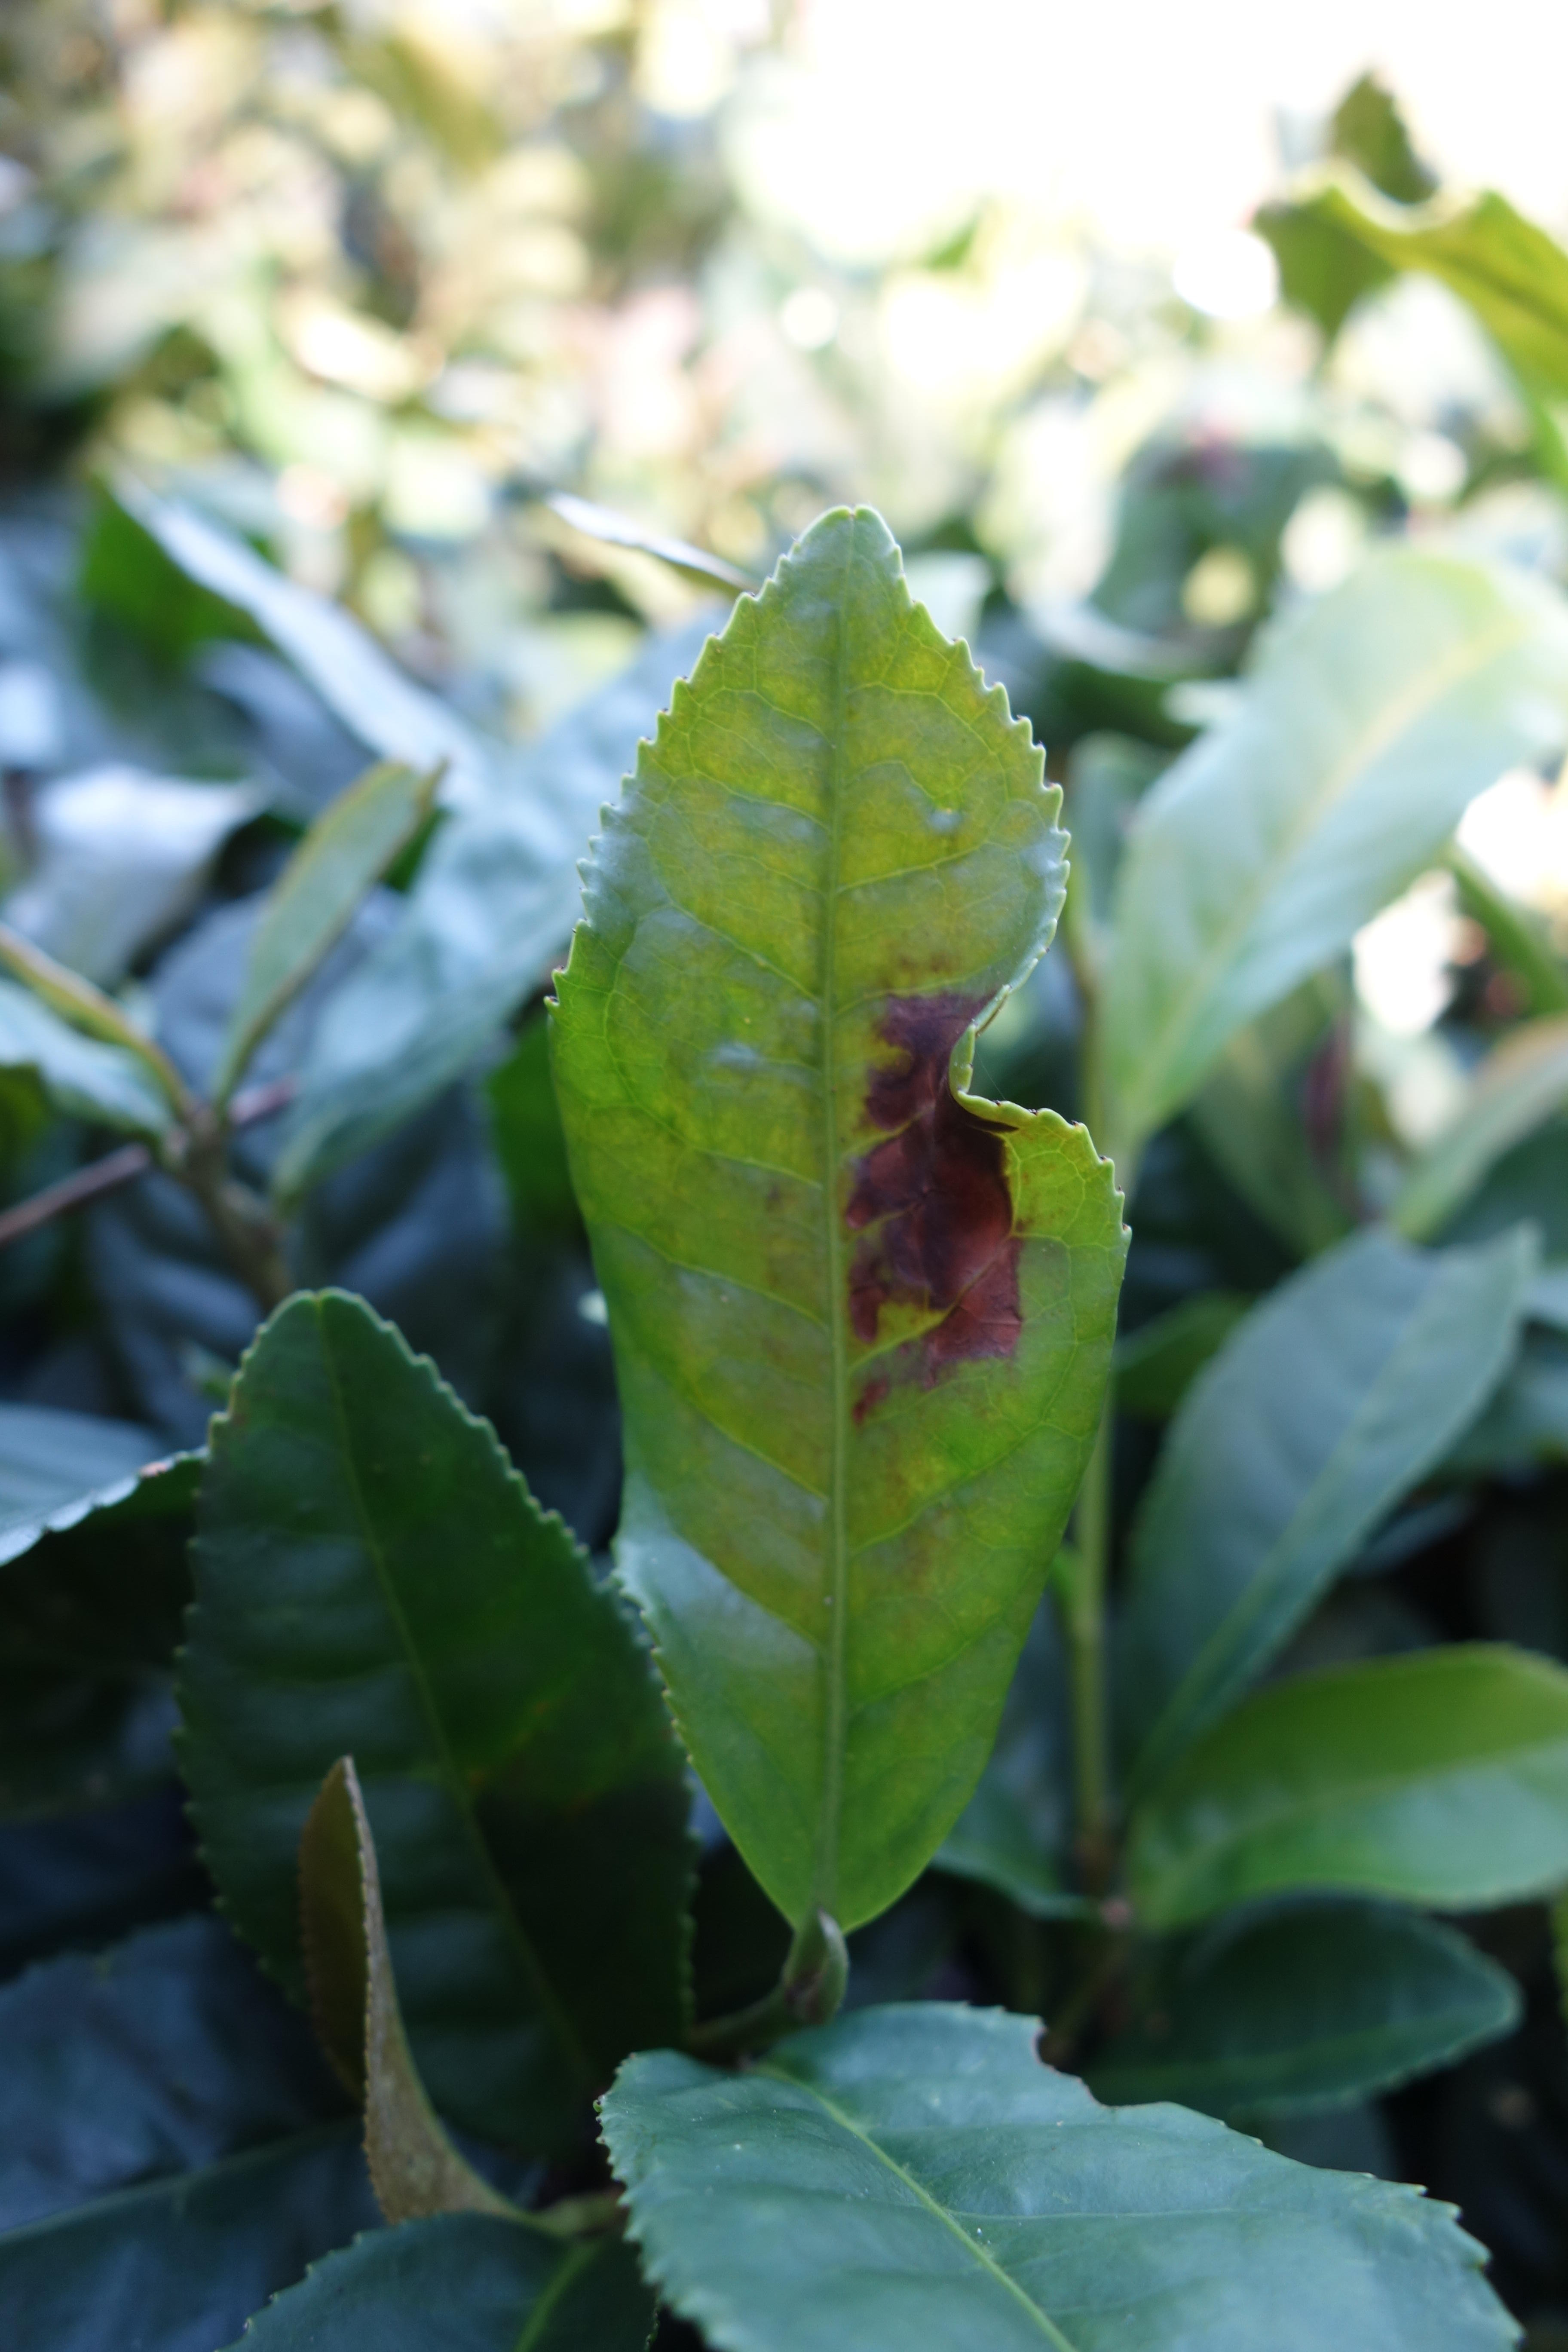chihuo_low: (602, 2005, 1519, 2347)
tanju_high: (544, 500, 1132, 1939)
